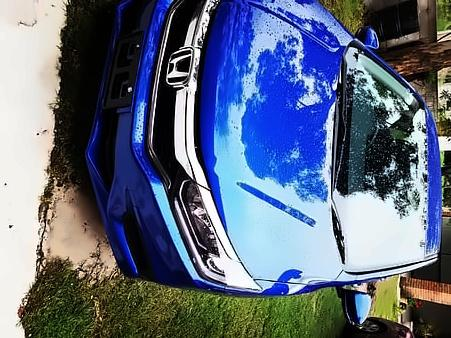Front bumper: (82, 0, 197, 295)
Headlight - -L-: (171, 175, 265, 293)
Side mirror - -L-: (194, 0, 355, 287), (333, 281, 376, 330)
Side mirror - -R-: (361, 22, 383, 54)
